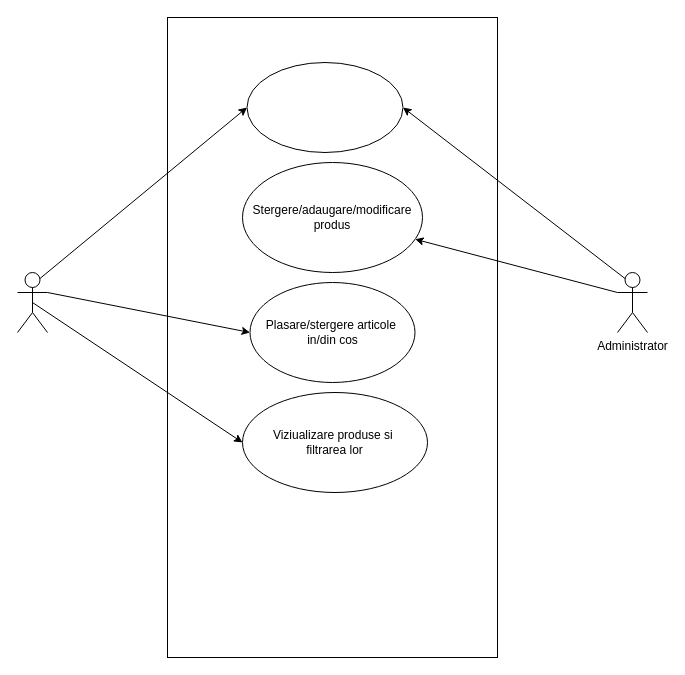
The diagram is 685 pixels wide and 675 high, and some of its shapes have lost their labels. Here are the shapes that lost their labels. From the top down, the centre of each, then its label:
point (324, 107): Logare
point (32, 302): Client
